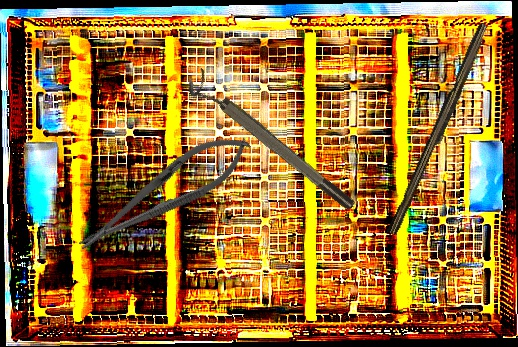Fixation Ring: (182, 67, 359, 221)
Needle Holder: (66, 119, 261, 267)
Scalpel Handle: (386, 20, 493, 239)
